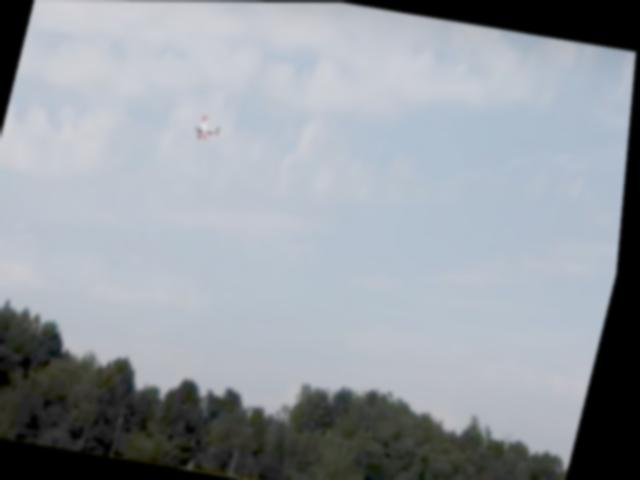uav: (186, 106, 231, 152)
